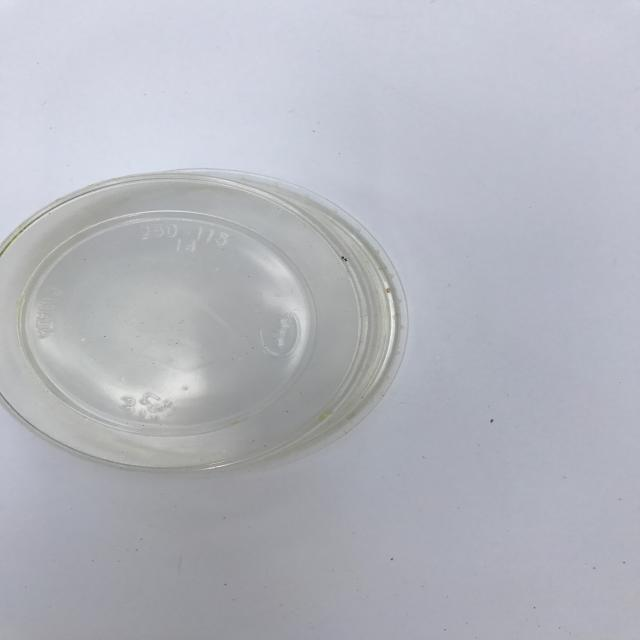plastic: (1, 167, 408, 474)
